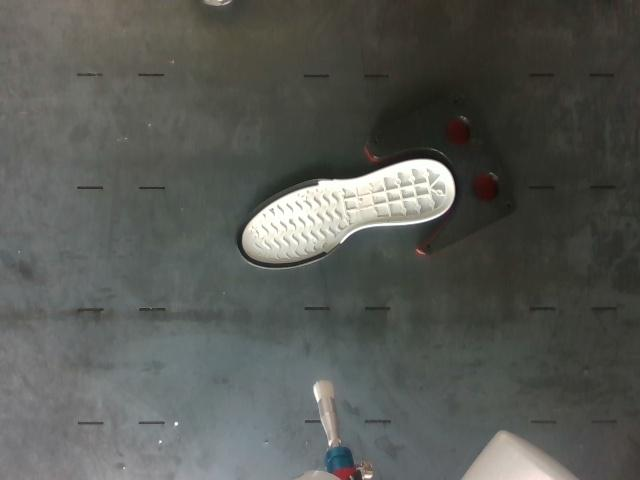shoes: (238, 160, 454, 268)
